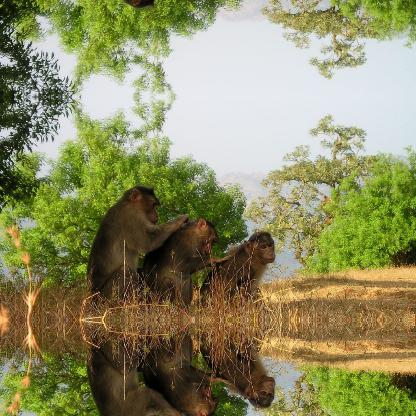Monkey: (140, 216, 230, 304), (139, 334, 231, 415), (201, 231, 277, 301), (201, 337, 277, 407)
